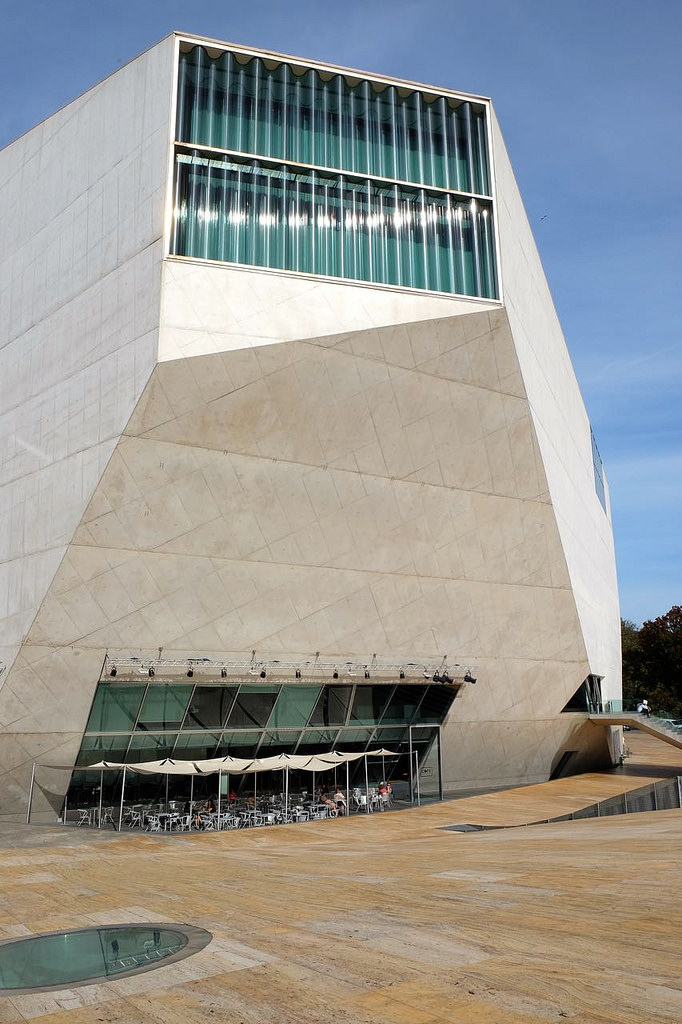musica: (0, 25, 626, 821)
